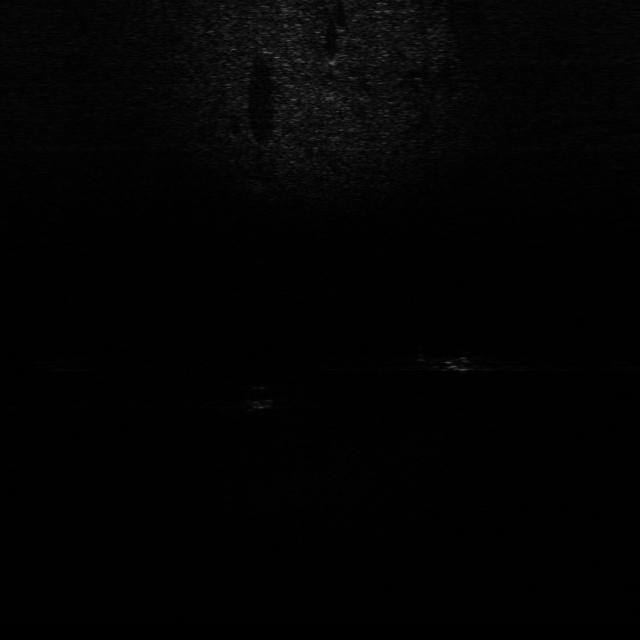ball: (242, 382, 287, 409)
human body: (393, 343, 501, 379)
